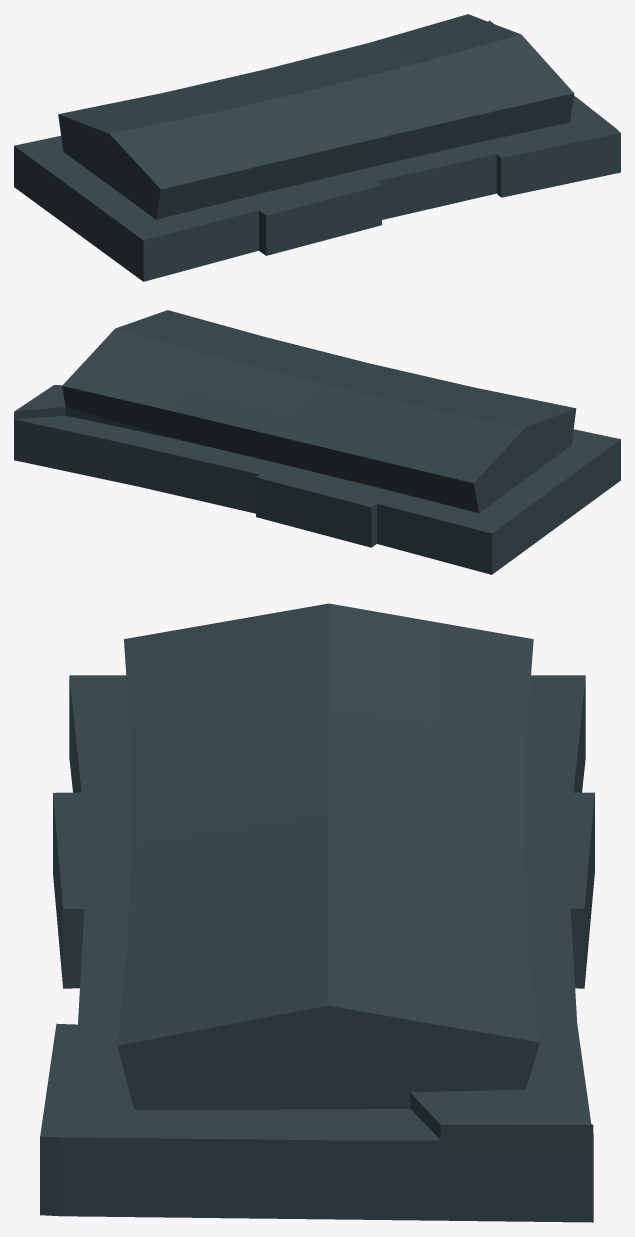
Rendered from mogila.fbx.
3 renders of one model, top to bottom at view 1: azimuth 30°, elevation 25°; view 2: azimuth 150°, elevation 25°; view 3: azimuth 270°, elevation 25°, orthographic. The views are drawn at different scales.
Visible parts, largest first — view 1: Grave_002.001; view 2: Grave_002.001; view 3: Grave_002.001.
Boxes of the visible parts, bbox=[...] form: Grave_002.001: bbox=[14, 14, 620, 281]; Grave_002.001: bbox=[14, 310, 620, 574]; Grave_002.001: bbox=[40, 603, 594, 1222].
Bounding box in the file's own units: 1126 × 209 × 568.
